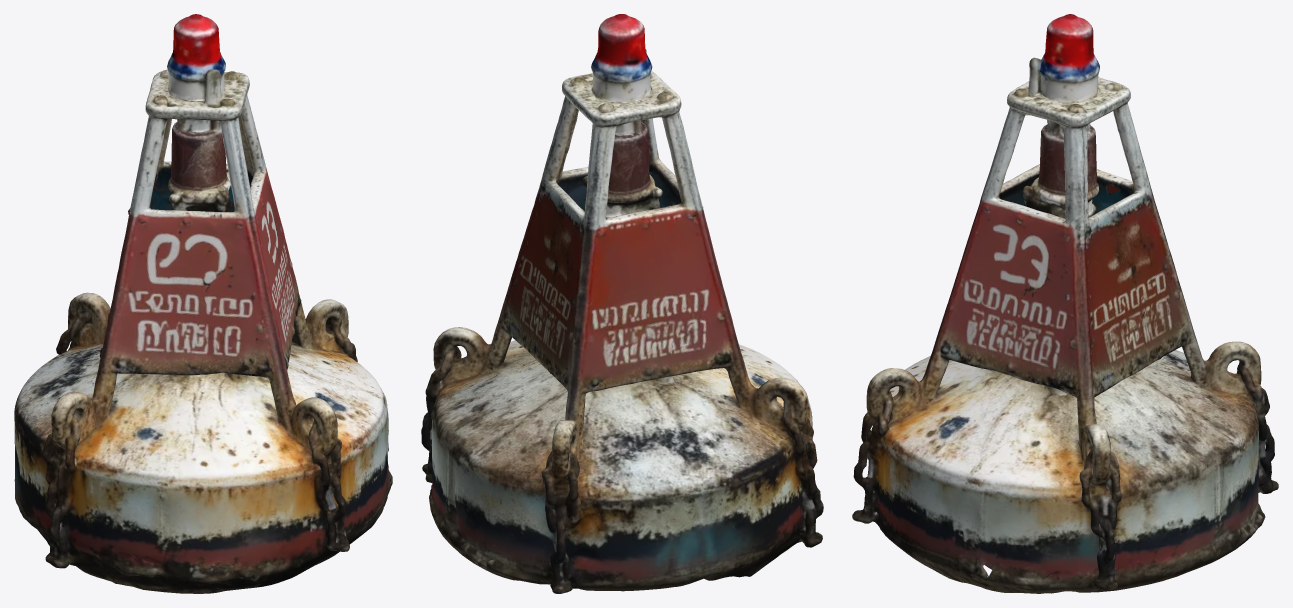
The model's file is buoy.glb.
3 views of the same model, side by side, from view 1: azimuth 30°, elevation 25°; view 2: azimuth 150°, elevation 25°; view 3: azimuth 270°, elevation 25° (orthographic). The views are drawn at different scales.
Parts seen in each view (by area): view 1: geometry_0; view 2: geometry_0; view 3: geometry_0.
Part boxes in pixels (x1,y1,x2,y2): geometry_0: [14, 14, 392, 593]; geometry_0: [421, 14, 823, 593]; geometry_0: [852, 14, 1278, 593].
Bounding box in the file's own units: 0.7225 × 1 × 0.7452.
Materials: 1 (1 with a texture image).
